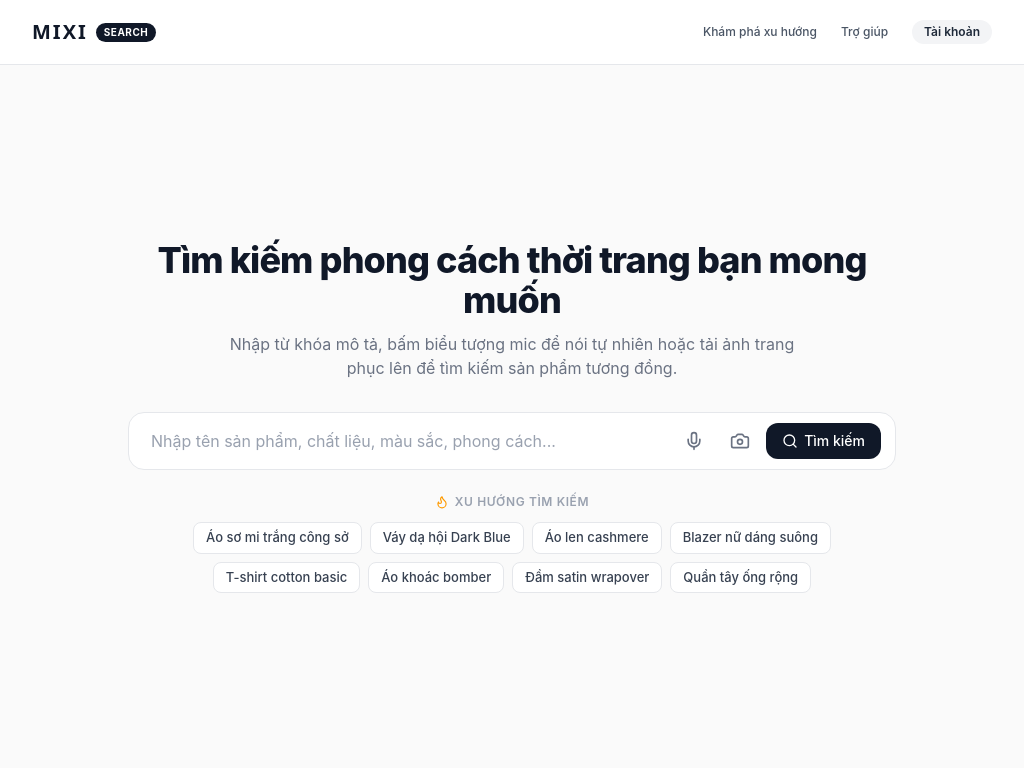
it: Home page independent search flow › submits a self-contained text search without session_id
Step 1. Type "áo thun trắng dưới 500k" into the field with placeholder "Nhập tên sản phẩm, chất liệu, màu sắc, phong cách..." → (409, 441), box [143, 423, 674, 459]
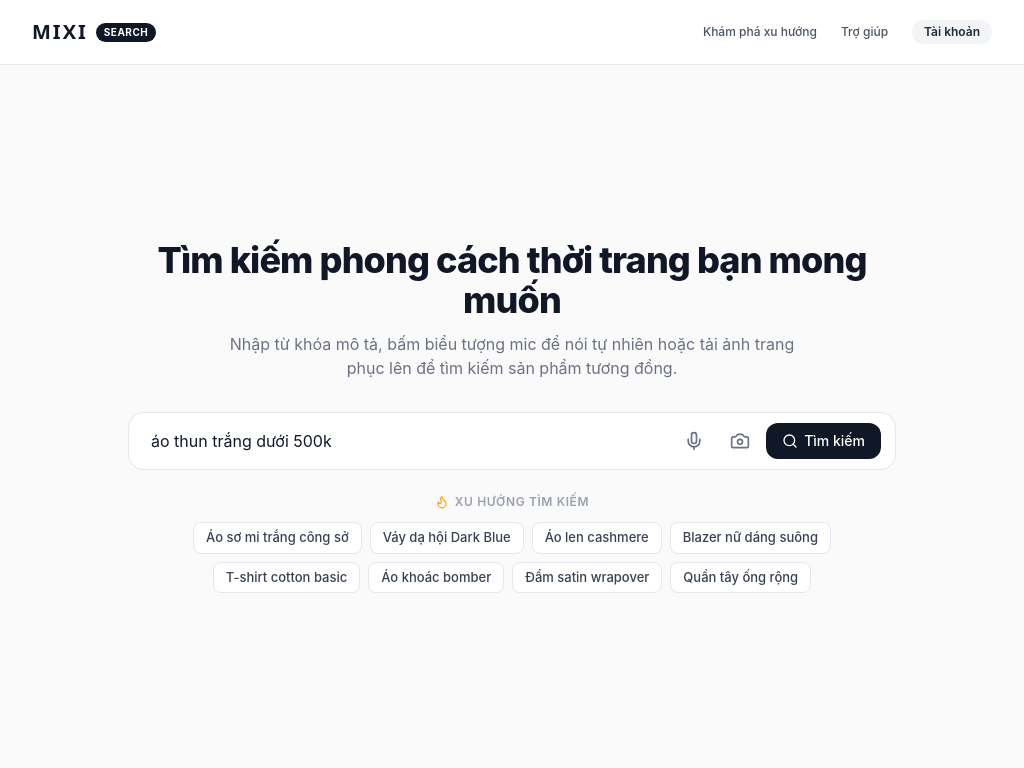
Step 2. Click the button "Tìm kiếm" → (824, 441), box [766, 423, 881, 459]
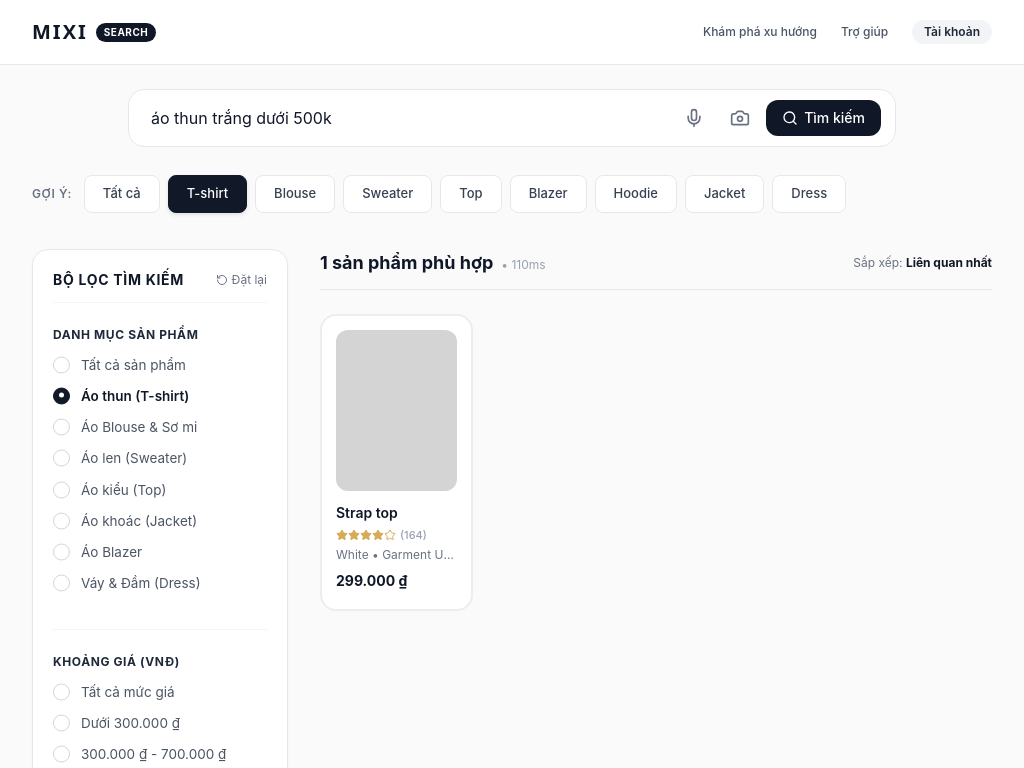
expect the heading "Strap top" is shown: met, box [336, 504, 398, 521]
